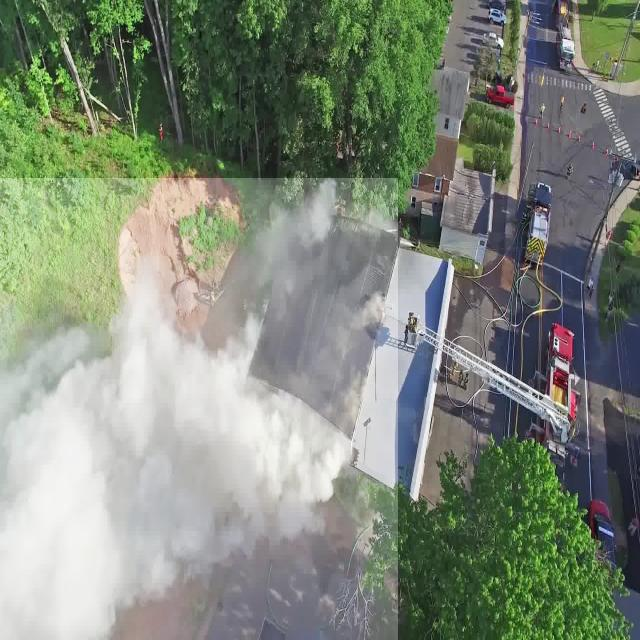Smoke: (0, 178, 398, 640)
